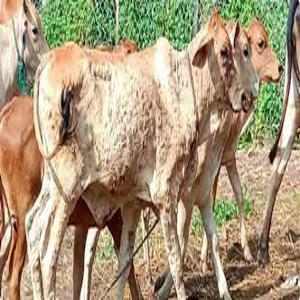lumpy skin diesease: (24, 7, 254, 299), (0, 0, 49, 299), (257, 0, 299, 267)
